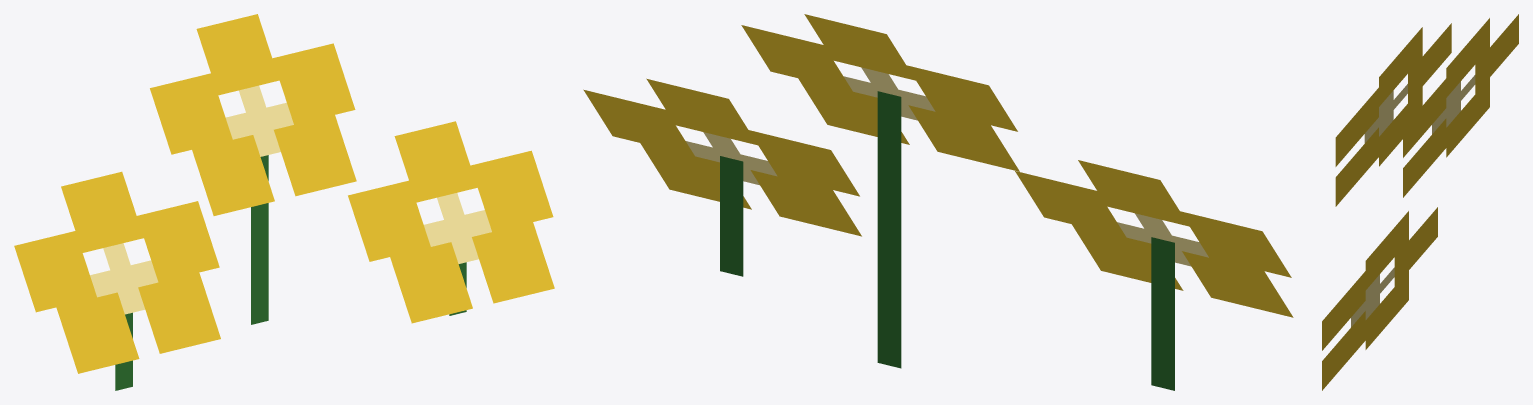
Rendered from SM_BreezeFlowers_Yellow.fbx.
3 views of the same model, side by side, from view 1: azimuth 30°, elevation 25°; view 2: azimuth 150°, elevation 25°; view 3: azimuth 270°, elevation 25° (orthographic). The views are drawn at different scales.
Visible parts, largest first — view 1: Stem.004, Stem.003, DaisyPixel.152, DaisyPixel.295, DaisyPixel.182, DaisyPixel.192, DaisyPixel.220, DaisyPixel.222, DaisyPixel.245, DaisyPixel.291, DaisyPixel.156, DaisyPixel.162 (+140 smaller); view 2: Stem.004, Stem.003, Stem.005; view 3: no part large enough to name.
Boxes of the visible parts, box(x1,y1,x2,y2) form: Stem.004: box(251, 155, 268, 324); Stem.003: box(115, 312, 132, 390); DaisyPixel.152: box(61, 181, 88, 208); DaisyPixel.295: box(424, 220, 451, 246); DaisyPixel.182: box(158, 277, 185, 304); DaisyPixel.192: box(192, 245, 219, 272); DaisyPixel.220: box(192, 145, 219, 171); DaisyPixel.222: box(219, 162, 246, 188); DaisyPixel.245: box(226, 112, 252, 139); DaisyPixel.291: box(491, 155, 518, 182); DaisyPixel.156: box(116, 216, 143, 242); DaisyPixel.162: box(49, 280, 76, 307); Stem.004: box(877, 91, 901, 368); Stem.003: box(1151, 237, 1174, 390); Stem.005: box(720, 156, 743, 276).
Size of the model in its own units: 87.5 by 29.24 by 45.41.
Materials: 1 (1 with a texture image).
